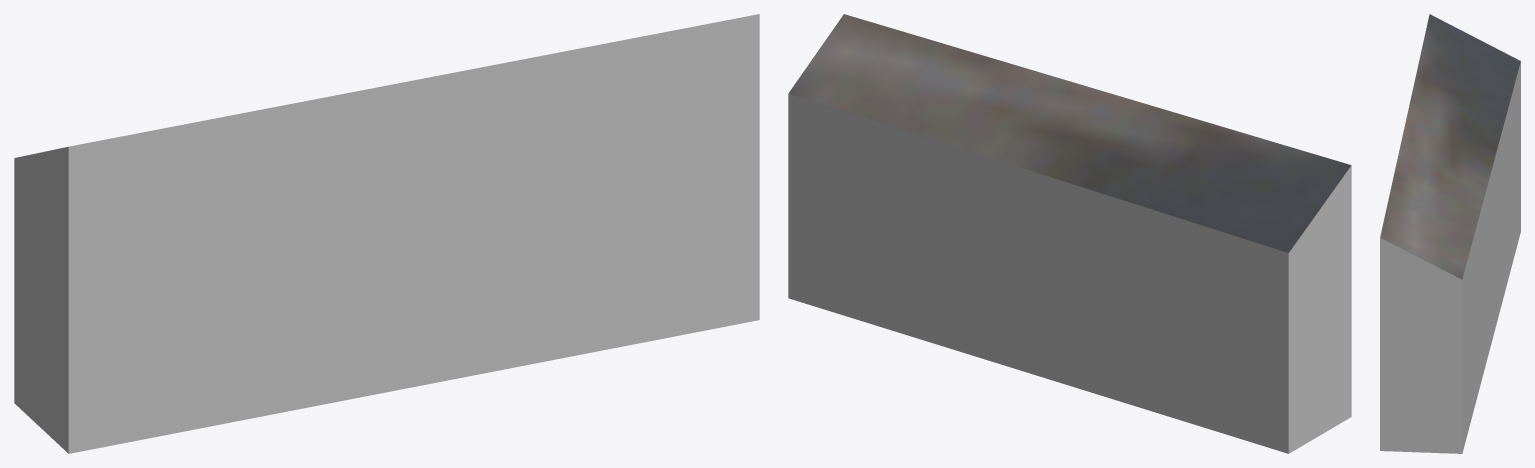
The model's file is DEBW_0010007THYC.gltf.
The picture shows the model from 3 angles, left to right: view 1: azimuth 30°, elevation 25°; view 2: azimuth 150°, elevation 25°; view 3: azimuth 270°, elevation 25°; orthographic projection. The views are drawn at different scales.
Parts seen in each view (by area): view 1: Z_UP; view 2: Z_UP; view 3: Z_UP.
Part boxes in pixels (box(x1,y1,x2,y2)): Z_UP: box(14, 14, 759, 453); Z_UP: box(788, 14, 1351, 453); Z_UP: box(1380, 14, 1520, 453).
Size of the model in its own units: 8.31 by 3.67 by 2.19.
Materials: 2 (1 with a texture image).
